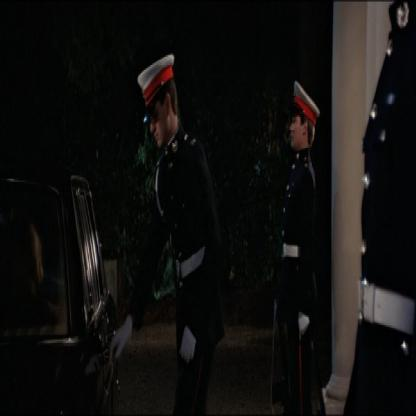Guns: (267, 226, 292, 414)
